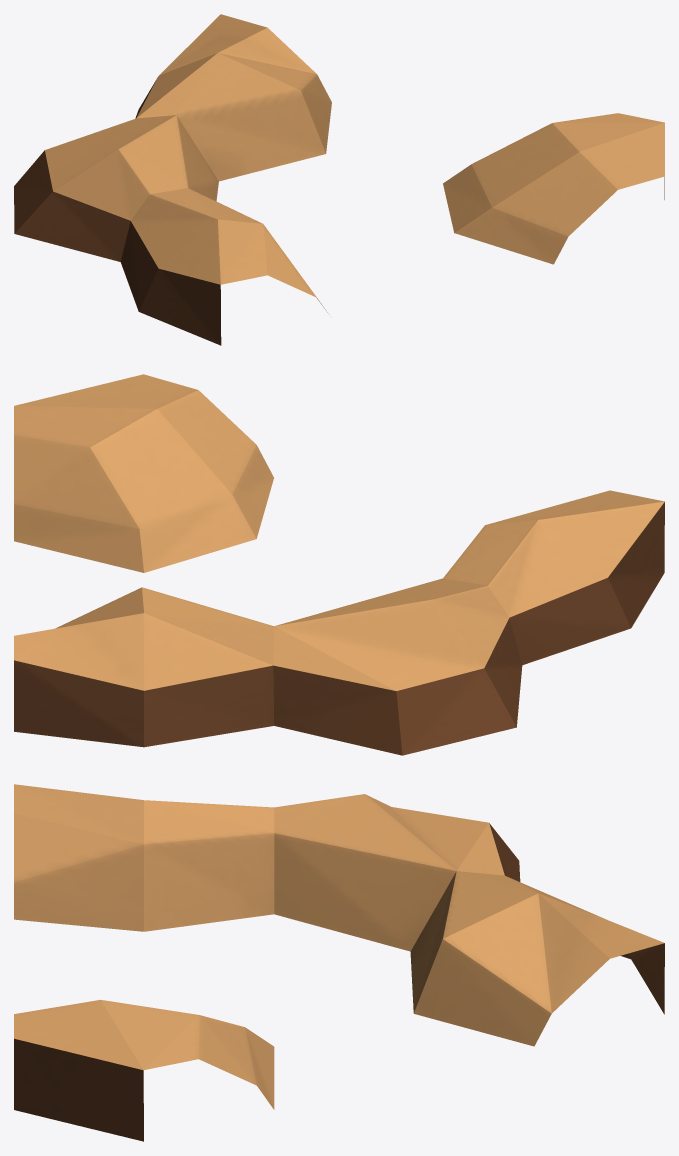
Rendered from TroncPerce_TrouAB2L.FBX.
3 renders of one model, top to bottom at view 1: azimuth 30°, elevation 25°; view 2: azimuth 150°, elevation 25°; view 3: azimuth 270°, elevation 25°, orthographic. The views are drawn at different scales.
Parts seen in each view (by area): view 1: TroncPerce_TrouAB2L; view 2: TroncPerce_TrouAB2L; view 3: TroncPerce_TrouAB2L.
Boxes of the visible parts, box(x1,y1,x2,y2) form: TroncPerce_TrouAB2L: box(14, 14, 664, 345); TroncPerce_TrouAB2L: box(14, 374, 664, 755); TroncPerce_TrouAB2L: box(14, 784, 664, 1141).
Size of the model in its own units: 2.43 by 0.3264 by 2.17.
